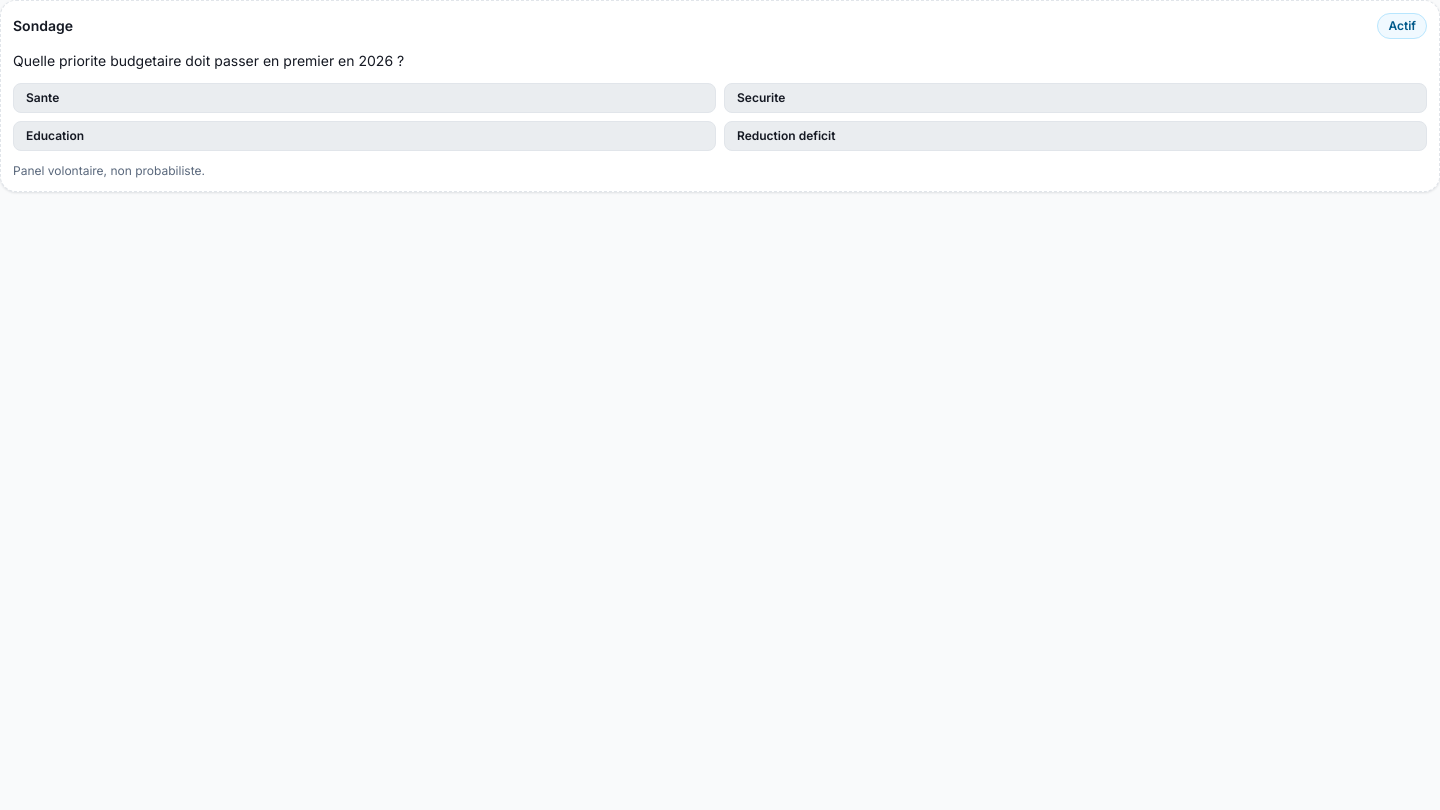
Test case: poll card inline › updates sample size after server response
The image size is (1440, 810).
Click the button "Sante" at (43, 98), box [13,83,716,113]
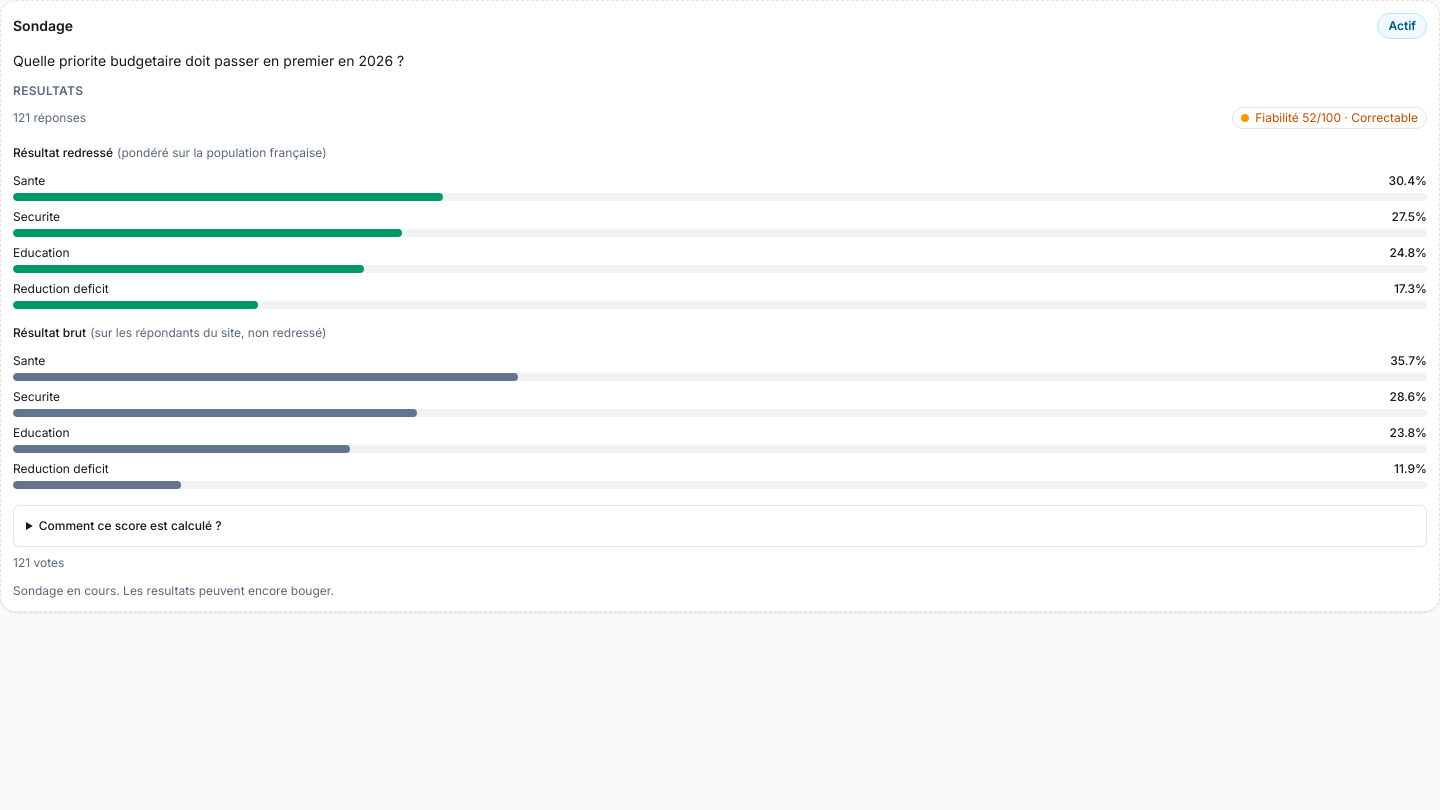
Now the text "121 votes" is shown, box [13,555,64,570]
